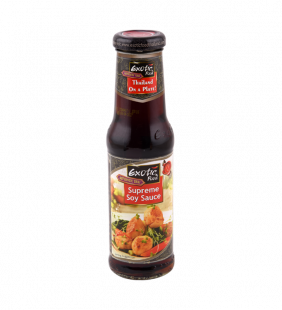EXOTIC FOOD: (100, 24, 180, 286)
